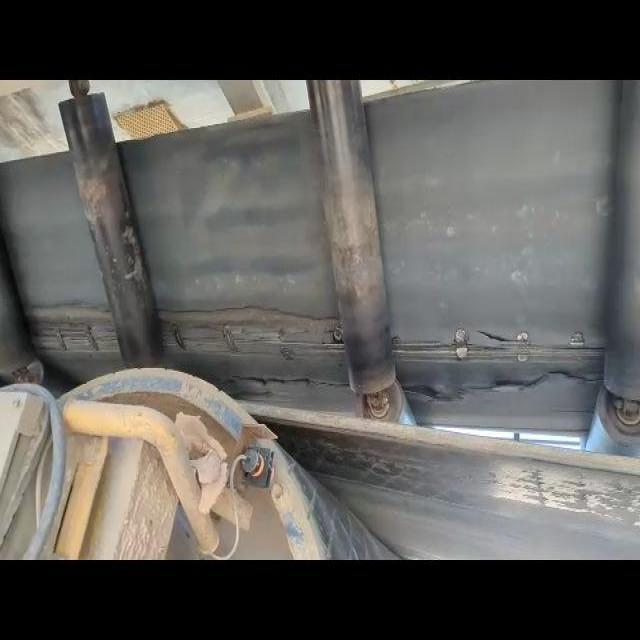Tear: (150, 293, 355, 365), (383, 311, 610, 369), (393, 363, 606, 405), (24, 296, 124, 359), (202, 372, 359, 397)
